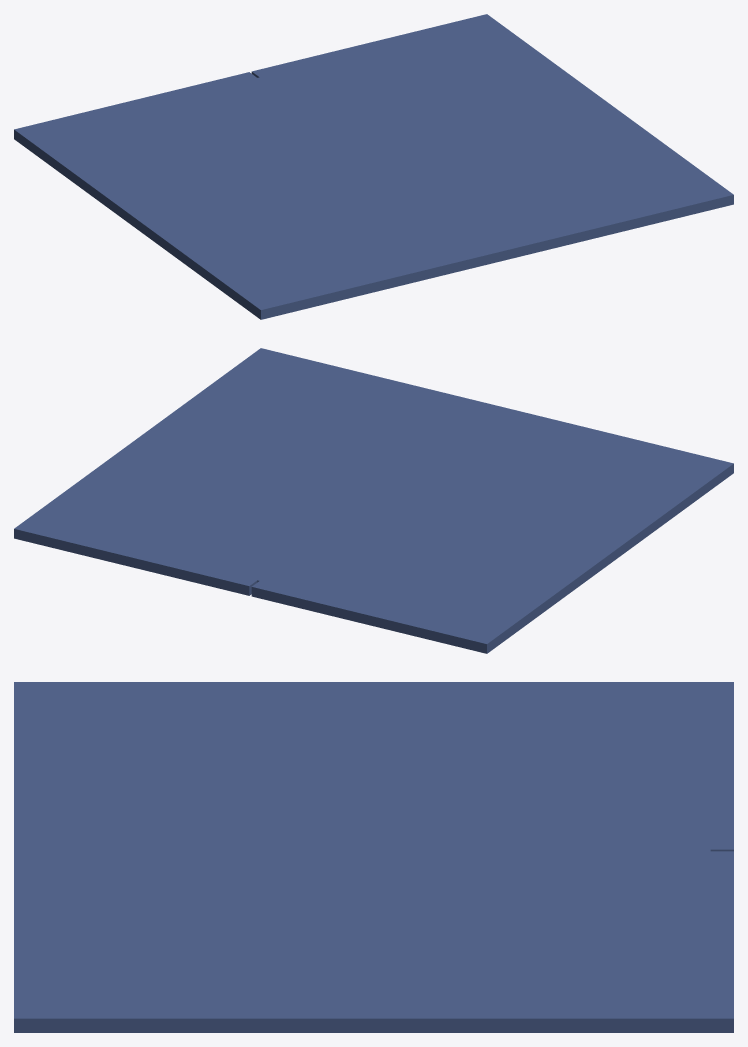
Rendered from original-2.obj.
The picture shows the model from 3 angles, top to bottom: view 1: azimuth 30°, elevation 25°; view 2: azimuth 150°, elevation 25°; view 3: azimuth 270°, elevation 25°; orthographic projection. The views are drawn at different scales.
Visible parts, largest first — view 1: Group3/mesh1/mesh1-geometry#mesh1-geometry; view 2: Group3/mesh1/mesh1-geometry#mesh1-geometry; view 3: Group3/mesh1/mesh1-geometry#mesh1-geometry.
Boxes of the visible parts, x1=… form: Group3/mesh1/mesh1-geometry#mesh1-geometry: x1=14, y1=14, x2=733, y2=319; Group3/mesh1/mesh1-geometry#mesh1-geometry: x1=14, y1=348, x2=733, y2=653; Group3/mesh1/mesh1-geometry#mesh1-geometry: x1=14, y1=682, x2=733, y2=1032.
Size of the model in its own units: 0.4988 by 0.00981 by 0.451.
